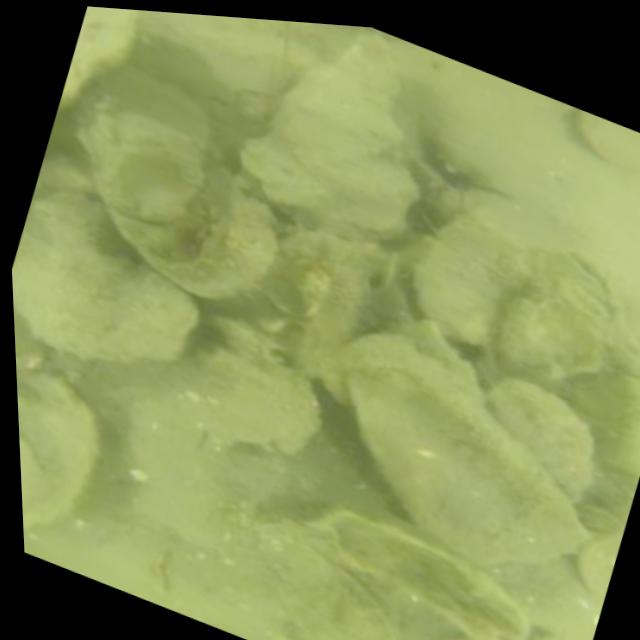Oyster-Closed: (493, 241, 632, 386)
Oyster-Indeterminate: (353, 368, 586, 569), (75, 320, 327, 462), (238, 33, 416, 234), (13, 194, 194, 368), (207, 233, 375, 377), (110, 168, 280, 301), (76, 71, 211, 223), (421, 215, 527, 349), (497, 374, 601, 510)
Oyster-Open: (258, 515, 515, 640)
